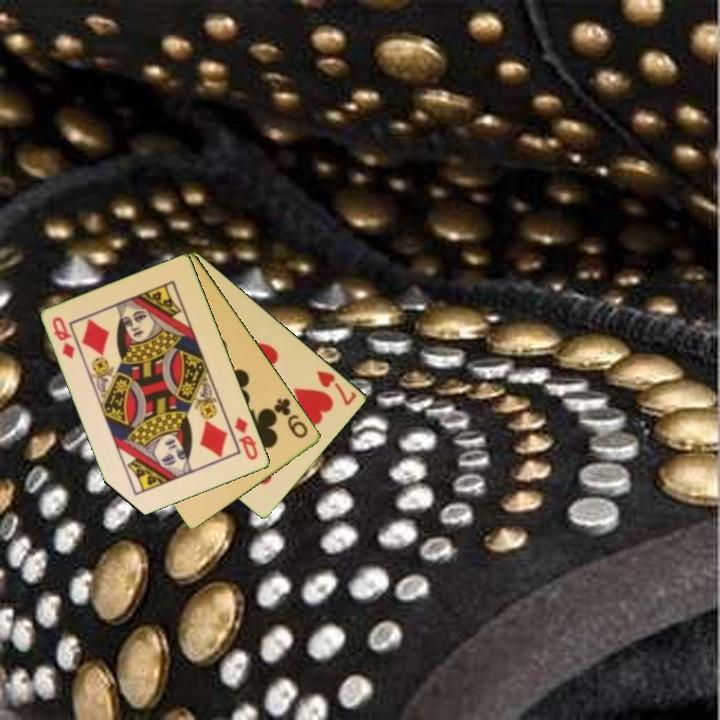7h: (313, 367, 360, 409)
9c: (270, 394, 311, 441)
Qd: (231, 413, 261, 463), (49, 313, 78, 362)
